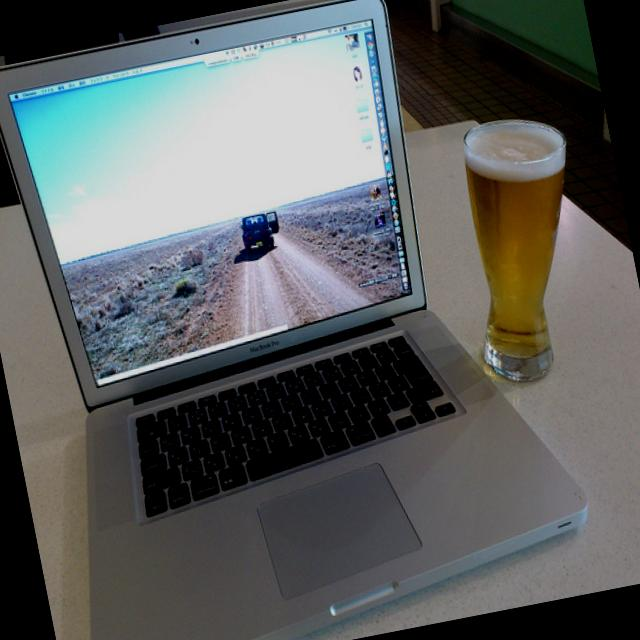Vehicle: (238, 210, 283, 253)
